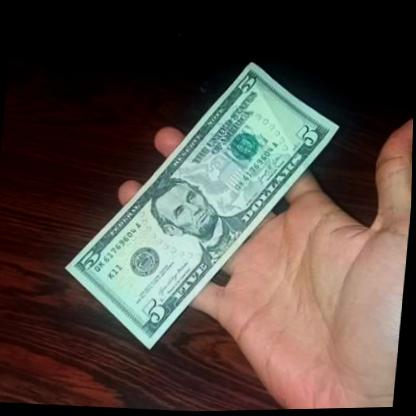five-front: (56, 49, 351, 365)
